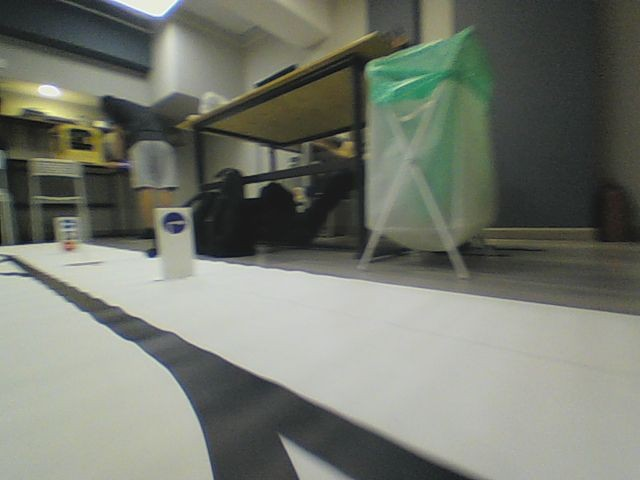Right: (162, 211, 187, 236)
